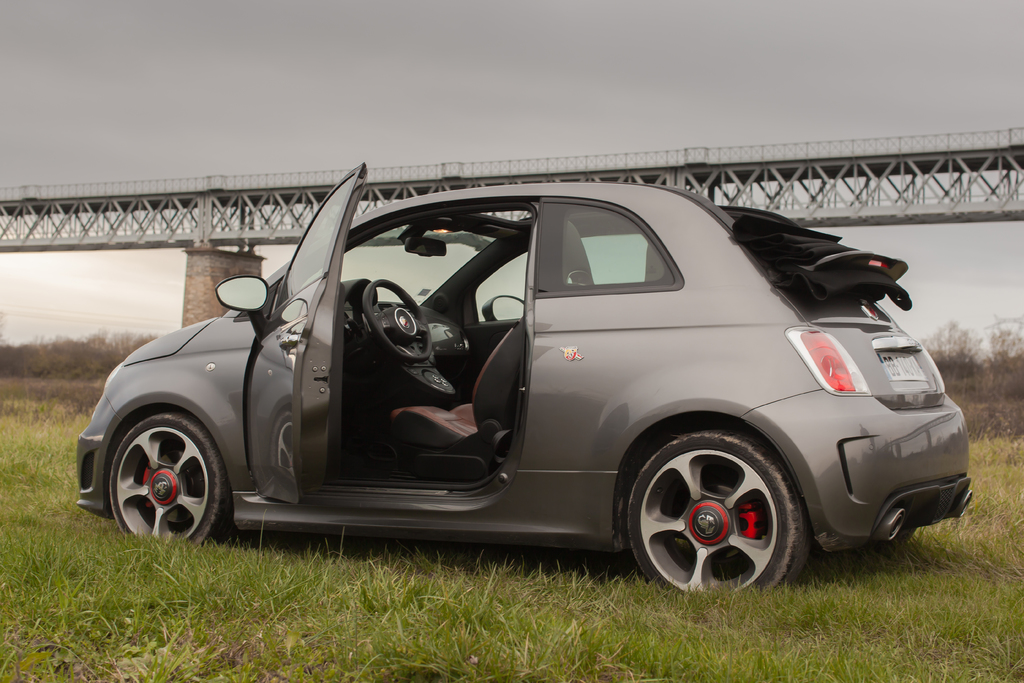Car: (91, 167, 952, 597)
